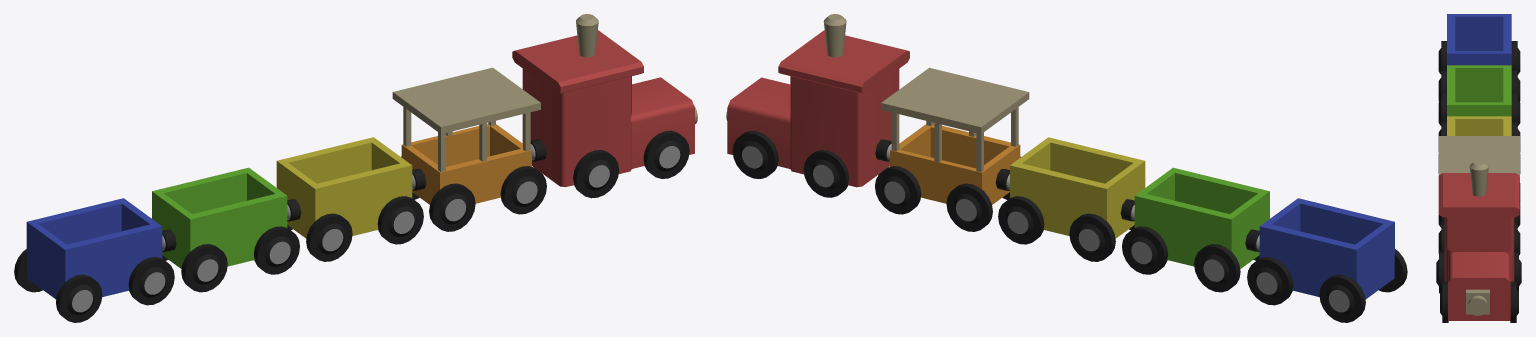
The model's file is Enviro_Train_001.fbx.
The picture shows the model from 3 angles, left to right: view 1: azimuth 30°, elevation 25°; view 2: azimuth 150°, elevation 25°; view 3: azimuth 270°, elevation 25°; orthographic projection. The views are drawn at different scales.
Parts seen in each view (by area): view 1: Front_Train, Cart_with_Roof, Last_Cart, Second_Cart, First_Cart; view 2: Front_Train, Cart_with_Roof, Last_Cart, Second_Cart, First_Cart; view 3: Front_Train, Last_Cart, Second_Cart, Cart_with_Roof, First_Cart.
Boxes of the visible parts, x1,y1,x2,y2 form: Front_Train: (512,14,697,198); Cart_with_Roof: (392,67,546,231); Last_Cart: (14,198,174,322); Second_Cart: (152,167,299,292); First_Cart: (276,137,423,261); Front_Train: (726,14,909,197); Cart_with_Roof: (875,67,1029,231); Last_Cart: (1247,198,1407,322); Second_Cart: (1122,167,1269,292); First_Cart: (998,137,1145,261); Front_Train: (1436,160,1521,322); Last_Cart: (1438,14,1520,101); Second_Cart: (1438,65,1520,152); Cart_with_Roof: (1438,136,1520,255); First_Cart: (1438,116,1520,203).
Bounding box in the file's own units: 7.85 × 1.83 × 1.05.
